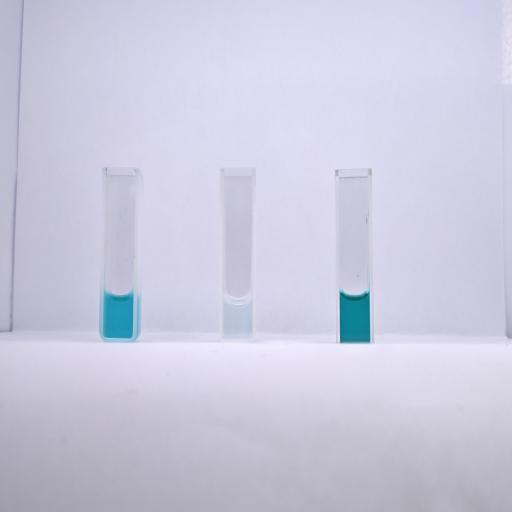cuvette: (97, 164, 143, 347), (332, 167, 377, 346), (217, 165, 259, 343)
liquid: (340, 291, 370, 340), (104, 290, 134, 338), (224, 296, 251, 339)
